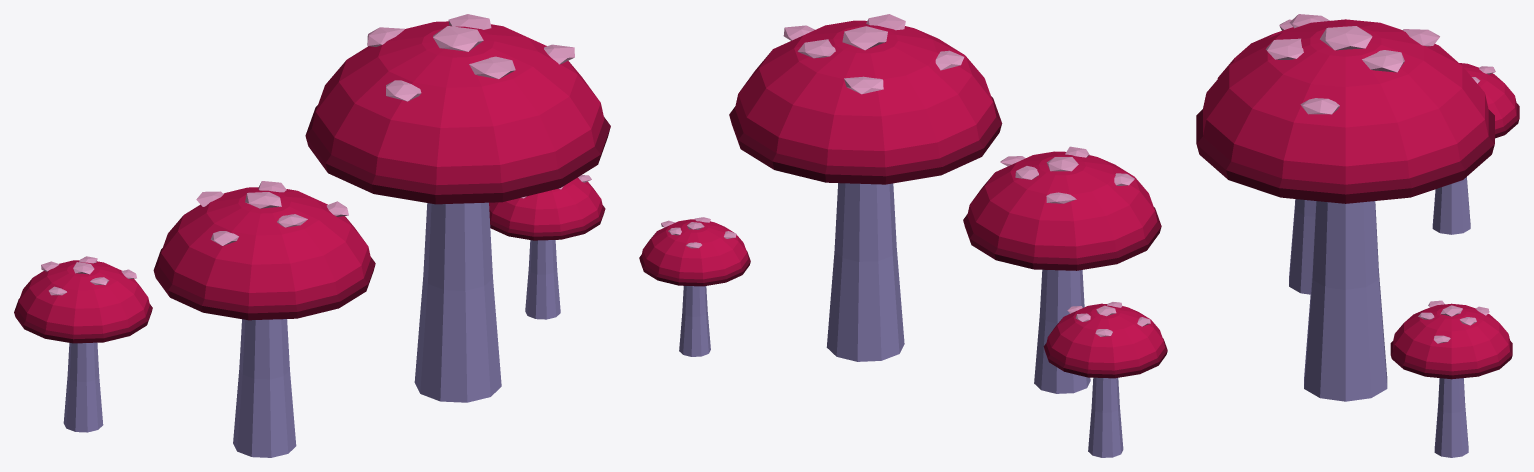
File: AlienV2_Prop_Mushrooms.fbx
The picture shows the model from 3 angles, left to right: view 1: azimuth 30°, elevation 25°; view 2: azimuth 150°, elevation 25°; view 3: azimuth 270°, elevation 25°; orthographic projection. The views are drawn at different scales.
Parts seen in each view (by area): view 1: AlienV2_Prop_Mushrooms; view 2: AlienV2_Prop_Mushrooms; view 3: AlienV2_Prop_Mushrooms.
Part boxes in pixels (<box>): AlienV2_Prop_Mushrooms: <box>14,14,610,457</box>; AlienV2_Prop_Mushrooms: <box>639,14,1167,457</box>; AlienV2_Prop_Mushrooms: <box>1196,14,1519,457</box>.
Size of the model in its own units: 0.4998 by 0.2914 by 0.2438.
